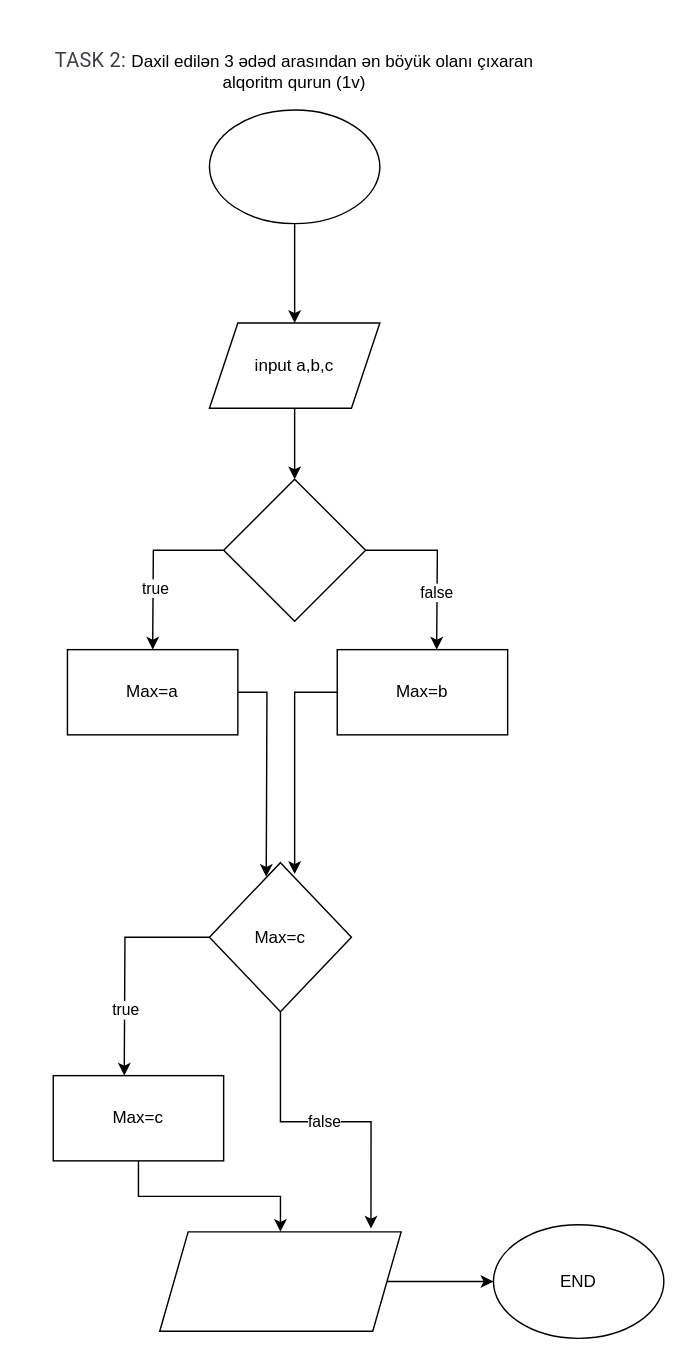
Image size: 689x1363. Some labels were removed from this diagram. Each missing label, with the centre of its shape:
"a>b" goes at point 294,549.
"max" goes at point 279,1280.
"START" goes at point 294,166.
